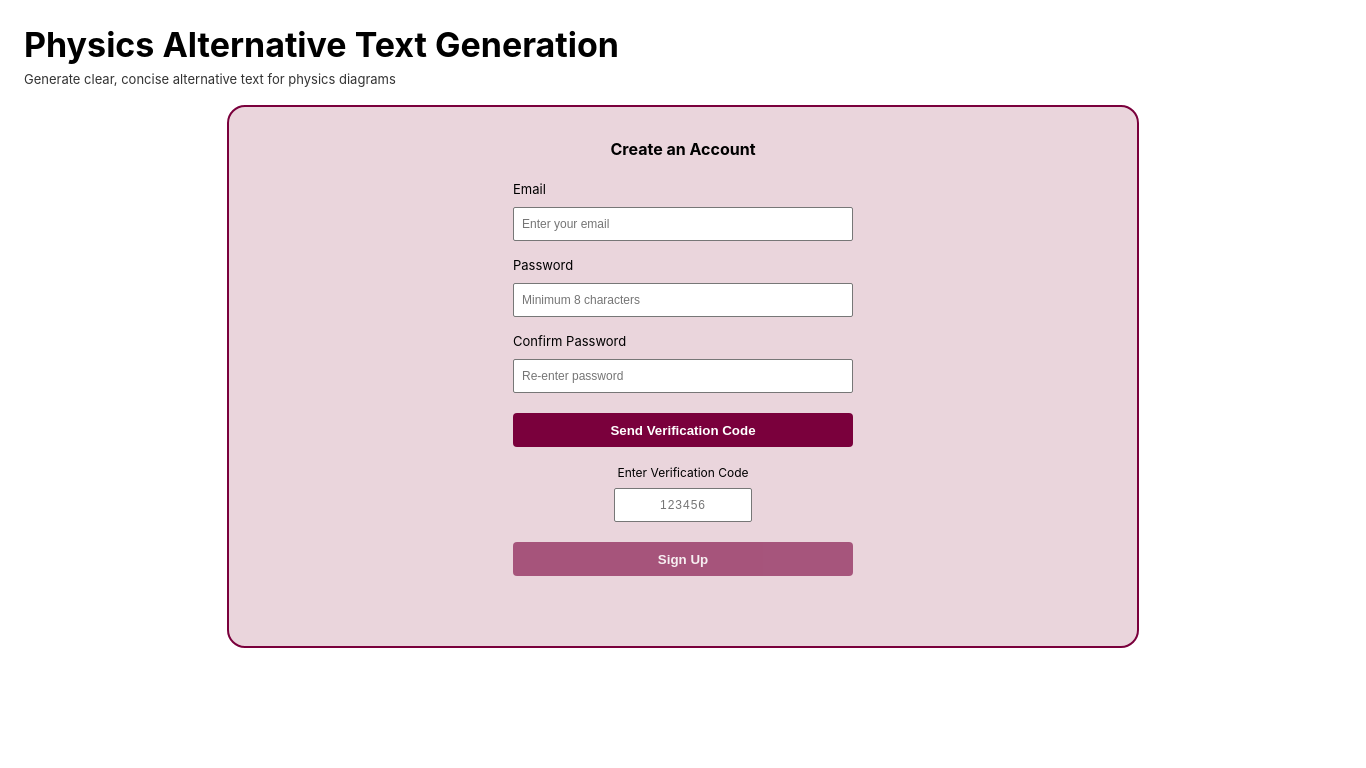
Scenario: SignUpScreen › shows error if passwords do not match
The image size is (1366, 768).
Type "test@test.com" into the field with placeholder "Enter your email". click: (683, 224)
box: [513,207,853,241]
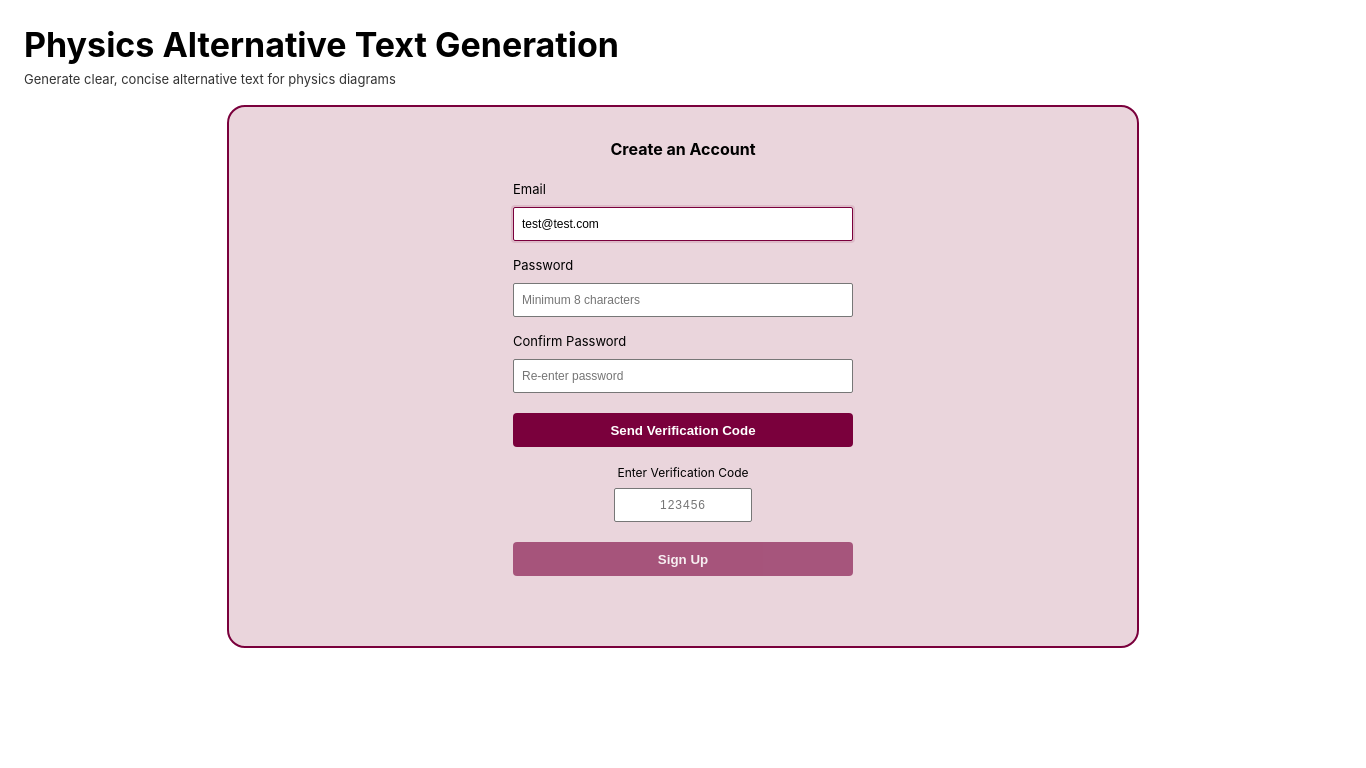
Type "12345678" into the password field with placeholder "Minimum 8 characters". click: (683, 300)
box: [513,283,853,317]
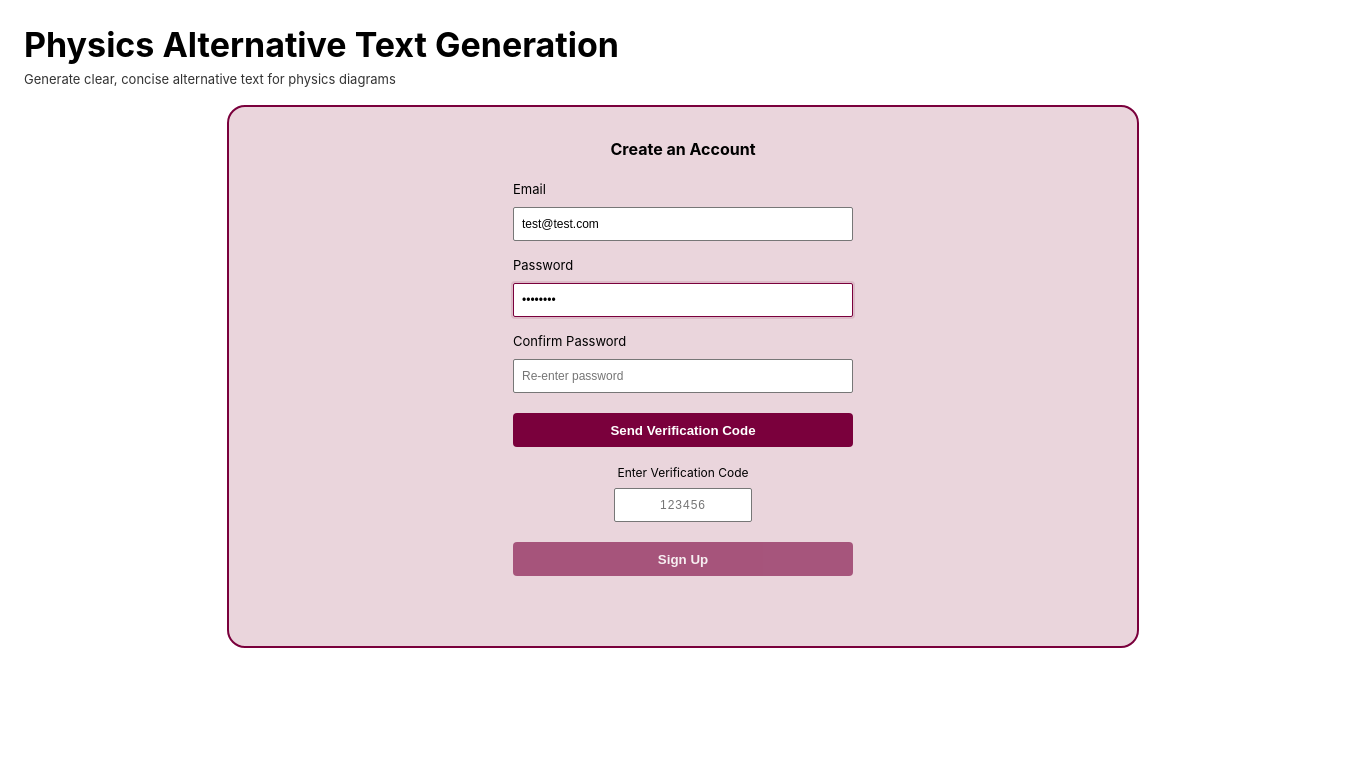
Type "87654321" into the password field with placeholder "Re-enter password". click: (683, 376)
box: [513,359,853,393]
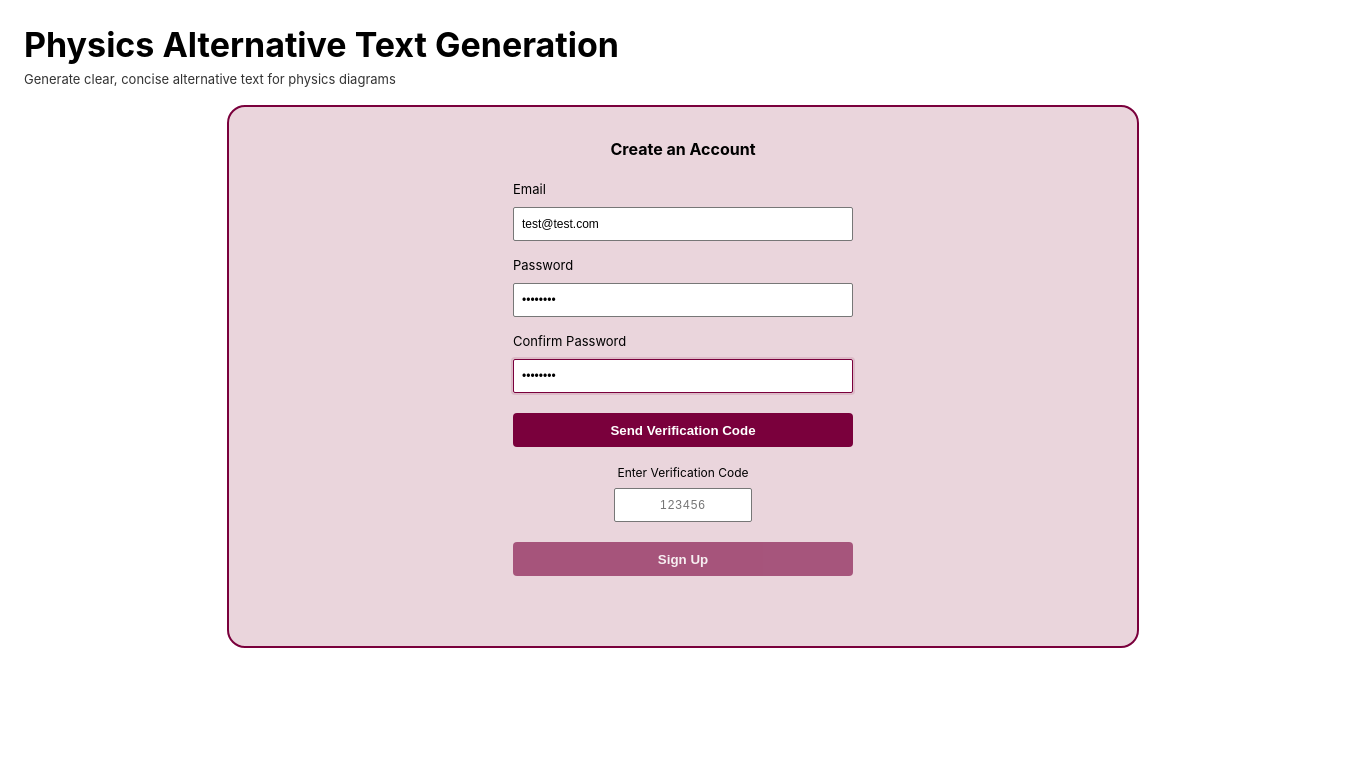
Click the button "Send Verification Code". click: (683, 430)
box: [513,413,853,447]
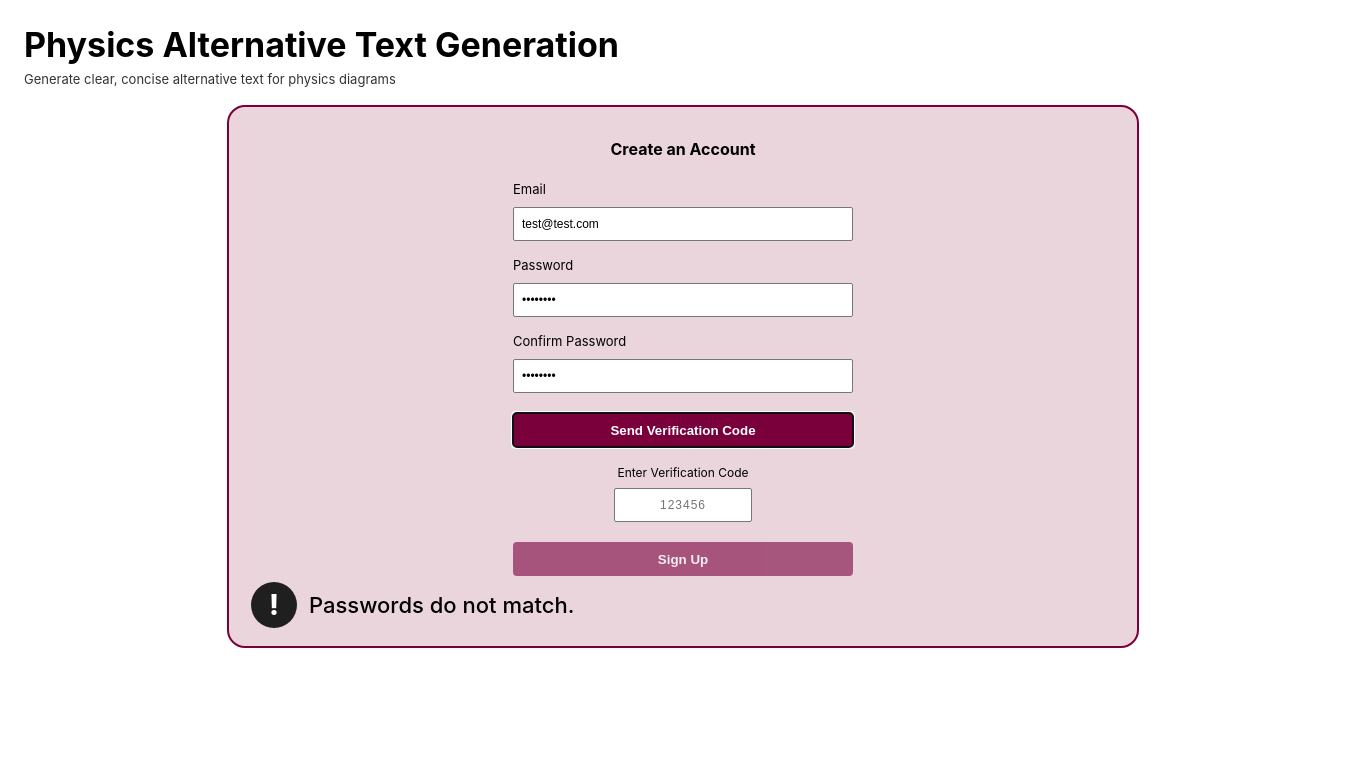
Now the text "Passwords do not match." is shown, box [309,592,574,618]
